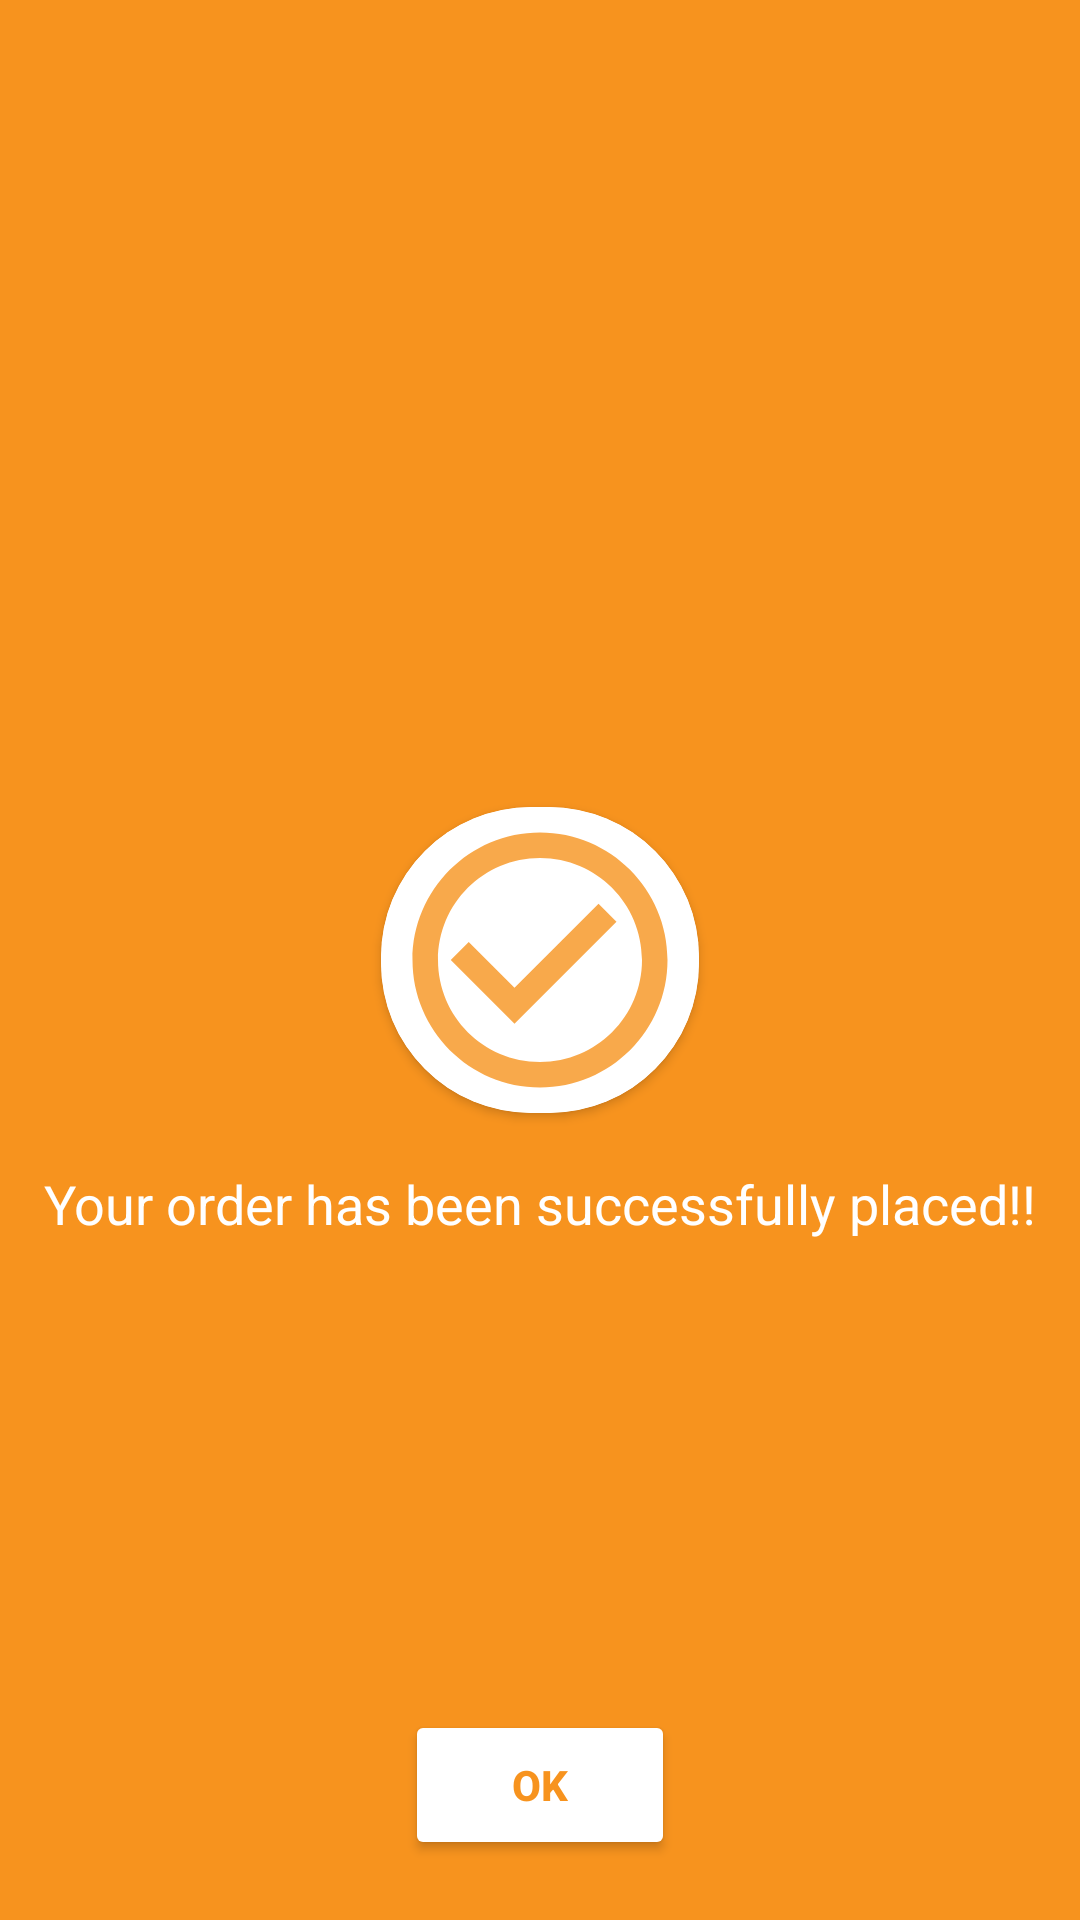

Screen size 1080px×1920px. Icon name, then its box in pixels as box(x1, y1, x2, y2):
check: box(381, 807, 699, 1113)
